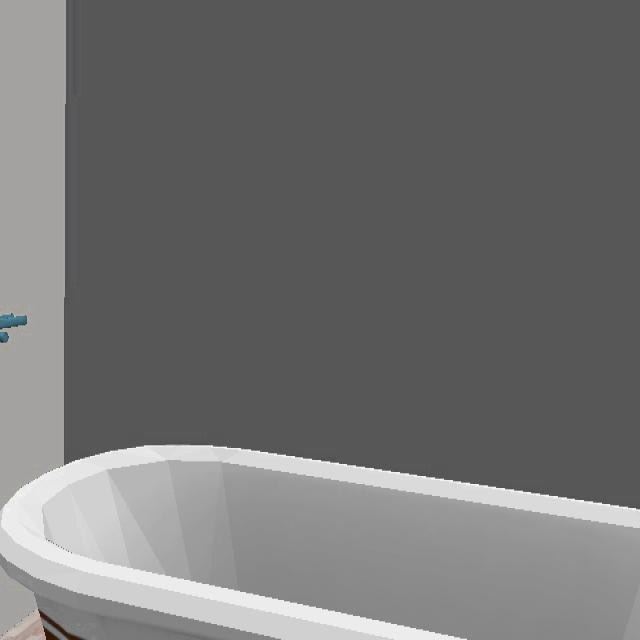bathtube: (0, 447, 640, 638)
